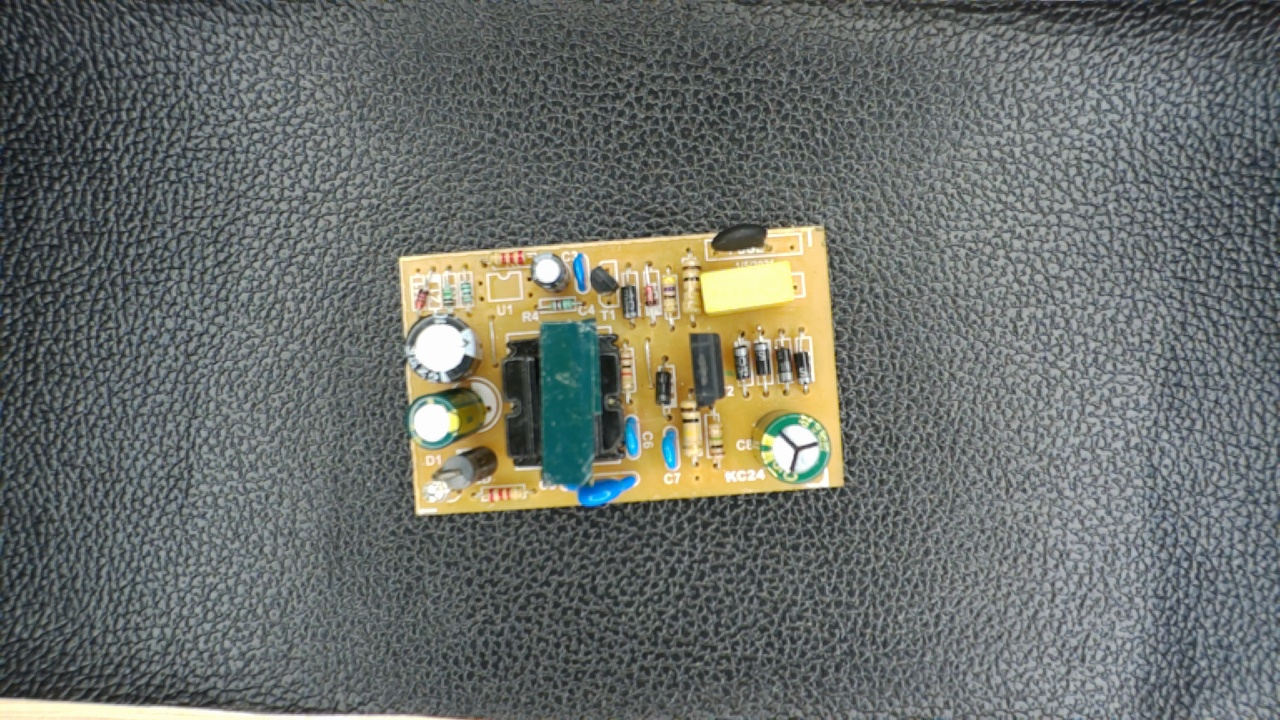fuse: (704, 222, 786, 263)
hv_capacitor: (747, 411, 834, 488)
mov: (557, 471, 645, 510)
